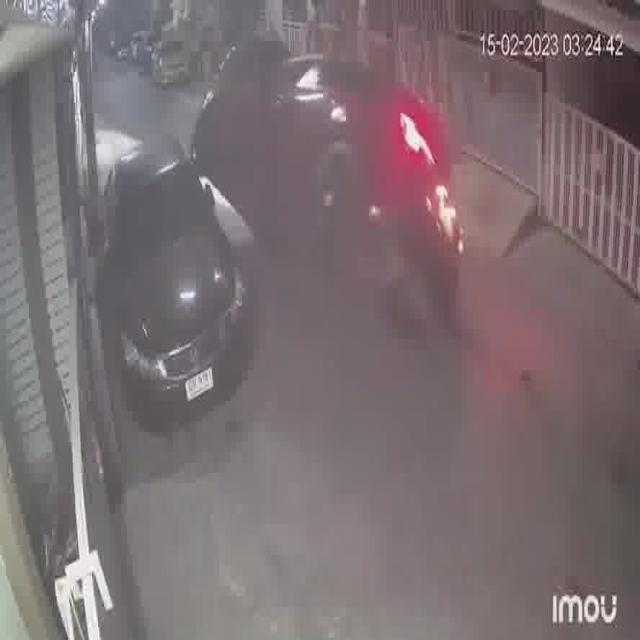multiple_accident: (84, 47, 471, 447)
